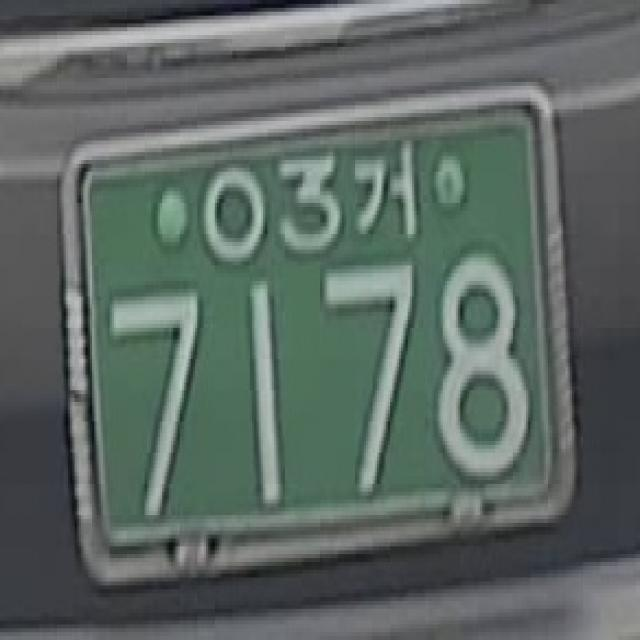0: (192, 160, 268, 269)
1: (232, 274, 304, 508)
3: (278, 141, 345, 256)
7: (108, 274, 214, 528), (322, 253, 424, 512)
8: (432, 232, 534, 494)
geo: (354, 136, 418, 247)
license_plate: (45, 87, 600, 554)
